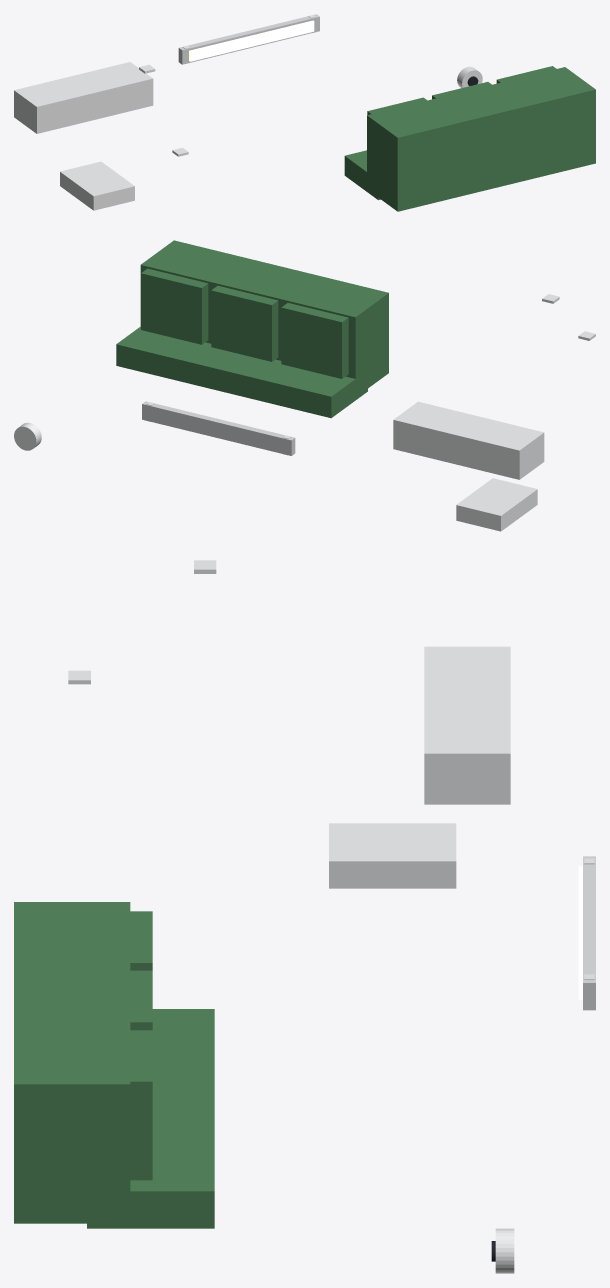
The model's file is A4_interior.glb.
The picture shows the model from 3 angles, top to bottom: view 1: azimuth 30°, elevation 25°; view 2: azimuth 150°, elevation 25°; view 3: azimuth 270°, elevation 25°; orthographic projection. The views are drawn at different scales.
Parts seen in each view (by area): view 1: FURN_A4_SOFA_01, DEV_A4_AC_WALL_01, ELEC_A4_PANEL_01, DEV_A4_LIGHT_CEILING_01_DIFFUSER, DEV_A4_LIGHT_CEILING_01, FURN_A4_SOFA_01_BACK, DEV_A4_CAMERA_01; view 2: FURN_A4_SOFA_01, FURN_A4_SOFA_01_BACK, DEV_A4_AC_WALL_01, DEV_A4_LIGHT_CEILING_01, ELEC_A4_PANEL_01, DEV_A4_CAMERA_01; view 3: FURN_A4_SOFA_01, FURN_A4_SOFA_01_BACK, DEV_A4_AC_WALL_01, ELEC_A4_PANEL_01, DEV_A4_LIGHT_CEILING_01, DEV_A4_CAMERA_01.
Boxes of the visible parts, bbox=[...] form: FURN_A4_SOFA_01: bbox=[367, 66, 595, 211]; DEV_A4_AC_WALL_01: bbox=[14, 62, 153, 133]; ELEC_A4_PANEL_01: bbox=[60, 161, 134, 210]; DEV_A4_LIGHT_CEILING_01_DIFFUSER: bbox=[189, 20, 314, 61]; DEV_A4_LIGHT_CEILING_01: bbox=[178, 14, 319, 64]; FURN_A4_SOFA_01_BACK: bbox=[344, 150, 380, 200]; DEV_A4_CAMERA_01: bbox=[457, 66, 482, 87]; FURN_A4_SOFA_01: bbox=[140, 240, 388, 388]; FURN_A4_SOFA_01_BACK: bbox=[116, 326, 367, 418]; DEV_A4_AC_WALL_01: bbox=[393, 401, 544, 479]; DEV_A4_LIGHT_CEILING_01: bbox=[142, 401, 295, 455]; ELEC_A4_PANEL_01: bbox=[456, 478, 537, 531]; DEV_A4_CAMERA_01: bbox=[14, 422, 41, 450]; FURN_A4_SOFA_01: bbox=[14, 902, 152, 1223]; FURN_A4_SOFA_01_BACK: bbox=[87, 1009, 214, 1228]; DEV_A4_AC_WALL_01: bbox=[424, 646, 510, 804]; ELEC_A4_PANEL_01: bbox=[329, 823, 456, 888]; DEV_A4_LIGHT_CEILING_01: bbox=[583, 856, 595, 1010]; DEV_A4_CAMERA_01: bbox=[495, 1228, 514, 1273].
Size of the model in its own units: 5.39 by 1.98 by 3.1.
